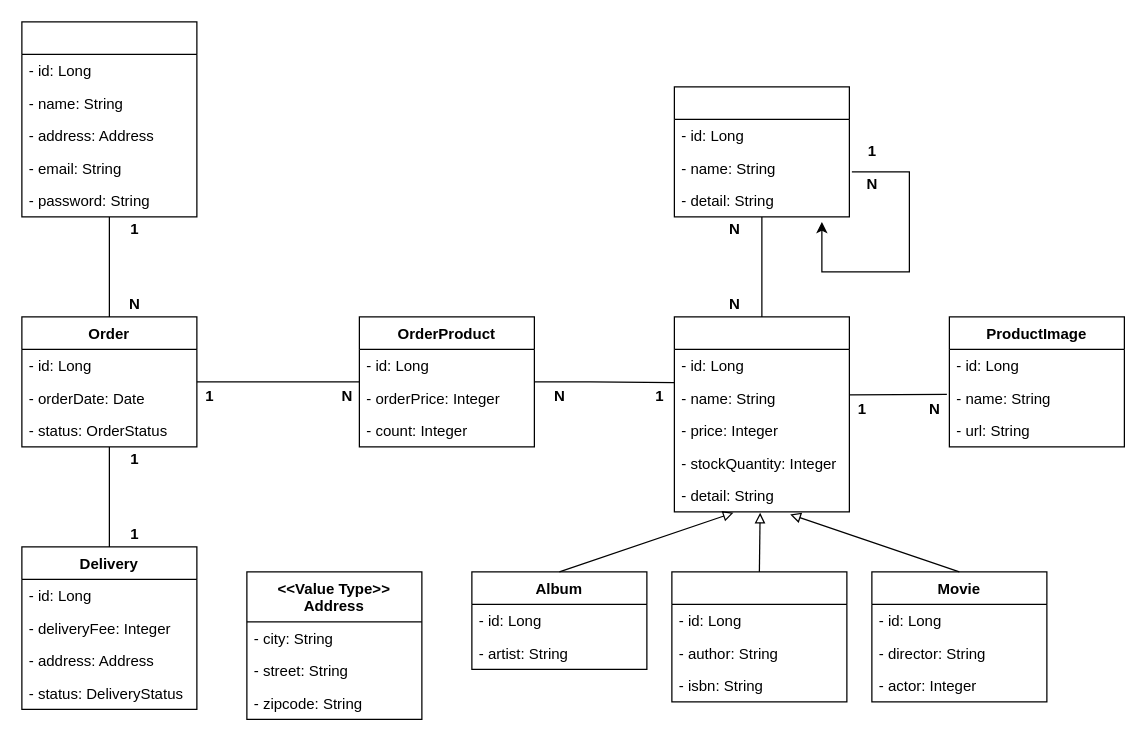
The diagram is 1146 pixels wide and 745 high, and some of its shapes have lost their labels. Here are the shapes that lost their labels. From the top down, the box of each, then its label:
(21, 21, 197, 217): Member
(673, 86, 849, 217): Category
(673, 316, 849, 512): Product
(671, 571, 847, 702): Book
